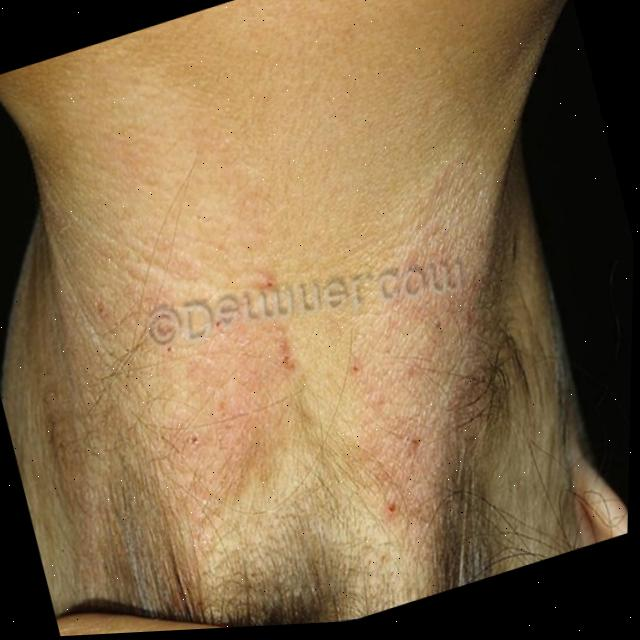Eczema: (88, 105, 557, 598)
